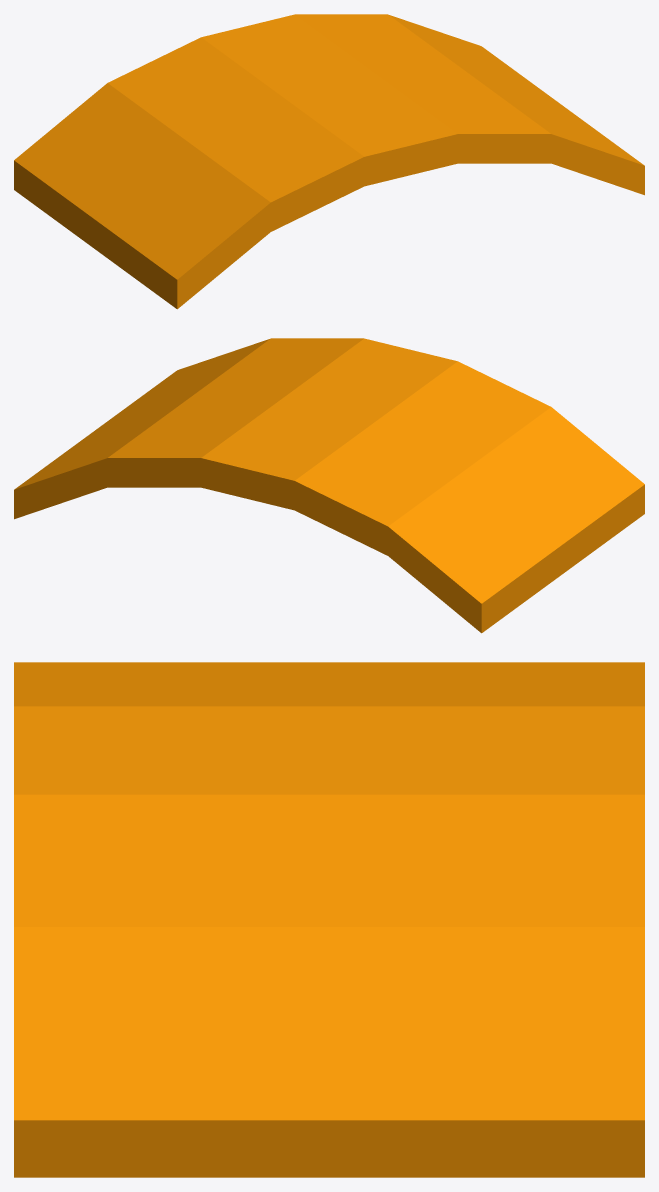
Rendered from HeheSheet.fbx.
3 views of the same model, one above another, from view 1: azimuth 30°, elevation 25°; view 2: azimuth 150°, elevation 25°; view 3: azimuth 270°, elevation 25° (orthographic). The views are drawn at different scales.
Visible parts, largest first — view 1: HeheSheet; view 2: HeheSheet; view 3: HeheSheet.
Part boxes in pixels (x1=…): HeheSheet: x1=14, y1=14, x2=644, y2=309; HeheSheet: x1=14, y1=338, x2=644, y2=633; HeheSheet: x1=14, y1=662, x2=644, y2=1177.
Bounding box in the file's own units: 1.24 × 0.271 × 0.75.
